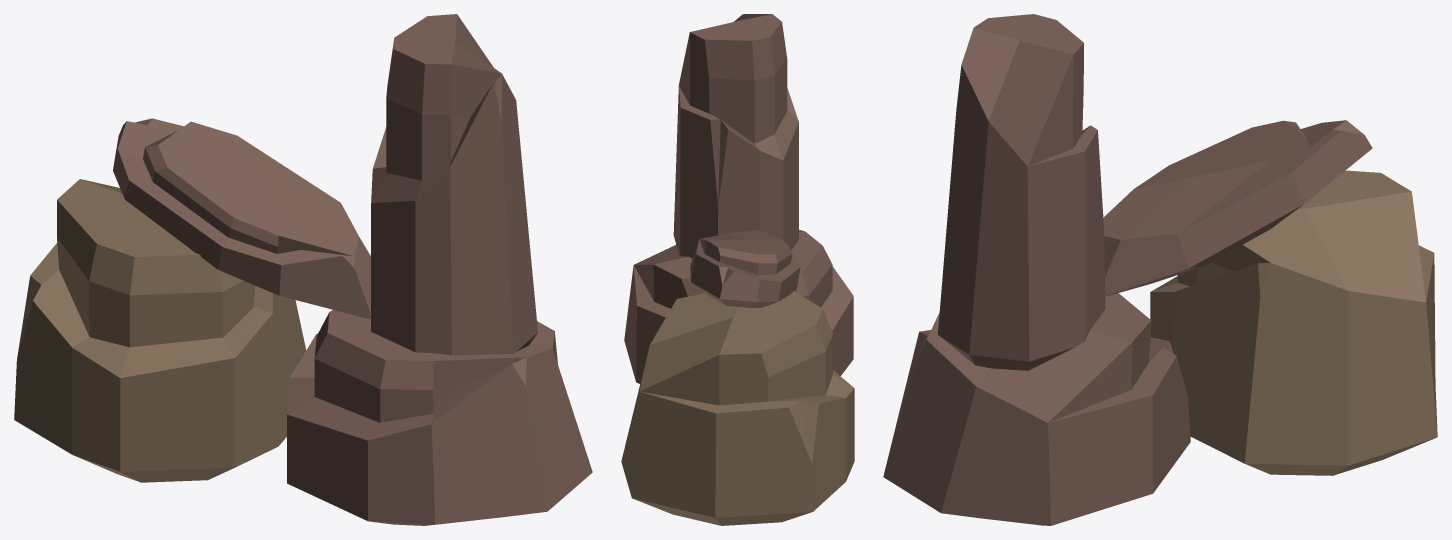
Rendered from stoneset1.fbx.
3 views of the same model, side by side, from view 1: azimuth 30°, elevation 25°; view 2: azimuth 150°, elevation 25°; view 3: azimuth 270°, elevation 25° (orthographic). The views are drawn at different scales.
Parts seen in each view (by area): view 1: stone03.022; view 2: stone03.022; view 3: stone03.022.
Part boxes in pixels (x1,y1,x2,y2): stone03.022: (14,14,592,525); stone03.022: (621,14,854,525); stone03.022: (883,14,1437,525).
Size of the model in its own units: 2980 by 3397 by 3629.
